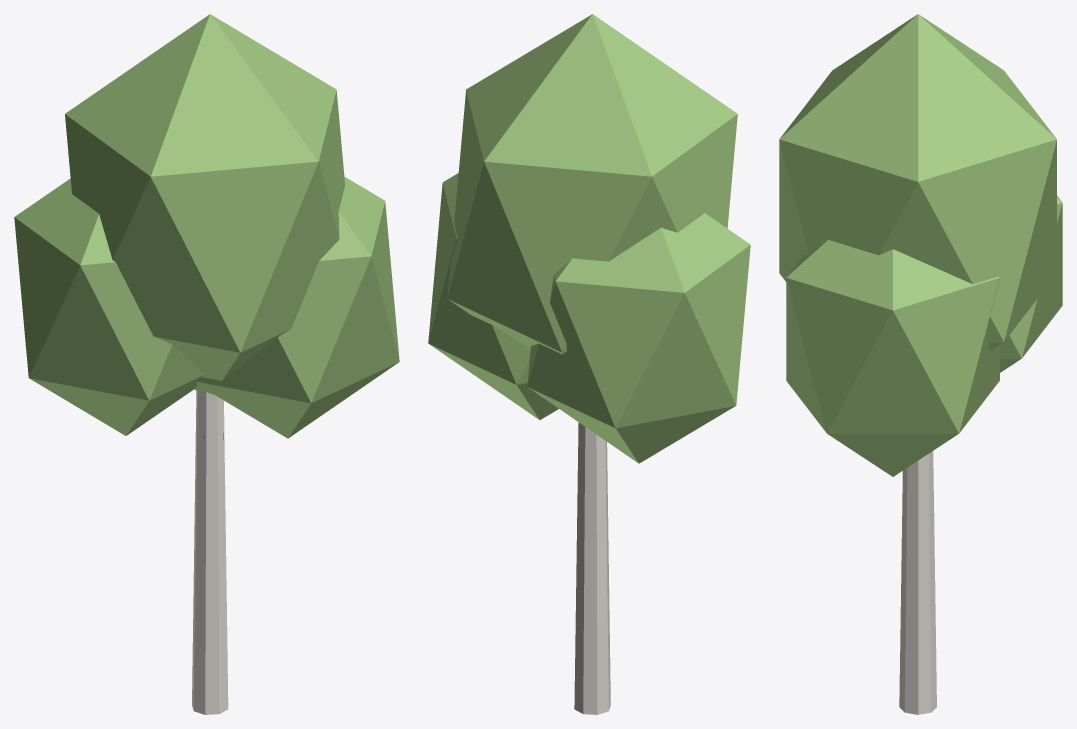
File: tree_birch.glb
3 views of the same model, side by side, from view 1: azimuth 30°, elevation 25°; view 2: azimuth 150°, elevation 25°; view 3: azimuth 270°, elevation 25° (orthographic).
Visible parts, largest first — view 1: TreeBirch; view 2: TreeBirch; view 3: TreeBirch.
Boxes of the visible parts, box(x1,y1,x2,y2) form: TreeBirch: box(14, 14, 399, 714); TreeBirch: box(428, 14, 750, 714); TreeBirch: box(779, 14, 1062, 714).
Bounding box in the file's own units: 2.99 × 6.09 × 2.26.
